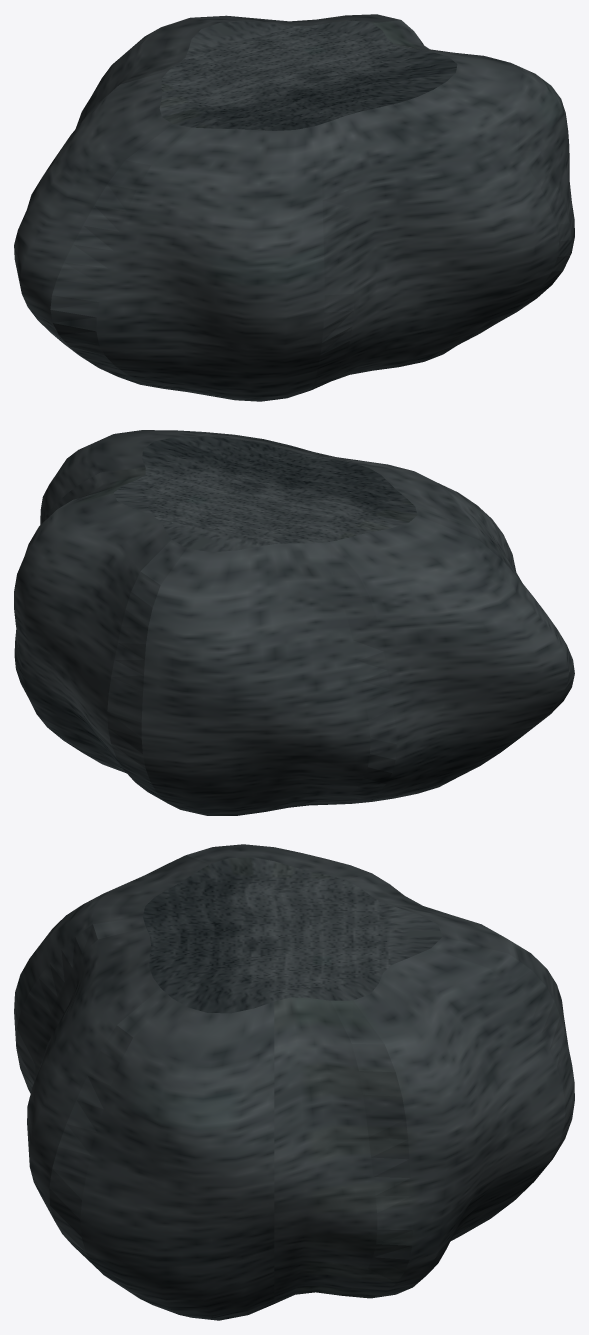
The model's file is fuji_lava_rock.glb.
3 views of the same model, one above another, from view 1: azimuth 30°, elevation 25°; view 2: azimuth 150°, elevation 25°; view 3: azimuth 270°, elevation 25° (orthographic). The views are drawn at different scales.
Parts seen in each view (by area): view 1: fuji_lava_rock; view 2: fuji_lava_rock; view 3: fuji_lava_rock.
Boxes of the visible parts, bbox=[...] form: fuji_lava_rock: bbox=[14, 14, 574, 401]; fuji_lava_rock: bbox=[14, 430, 574, 815]; fuji_lava_rock: bbox=[14, 844, 574, 1320].
Bounding box in the file's own units: 2.4 × 1.15 × 1.9.
1 material, 1 textured.
